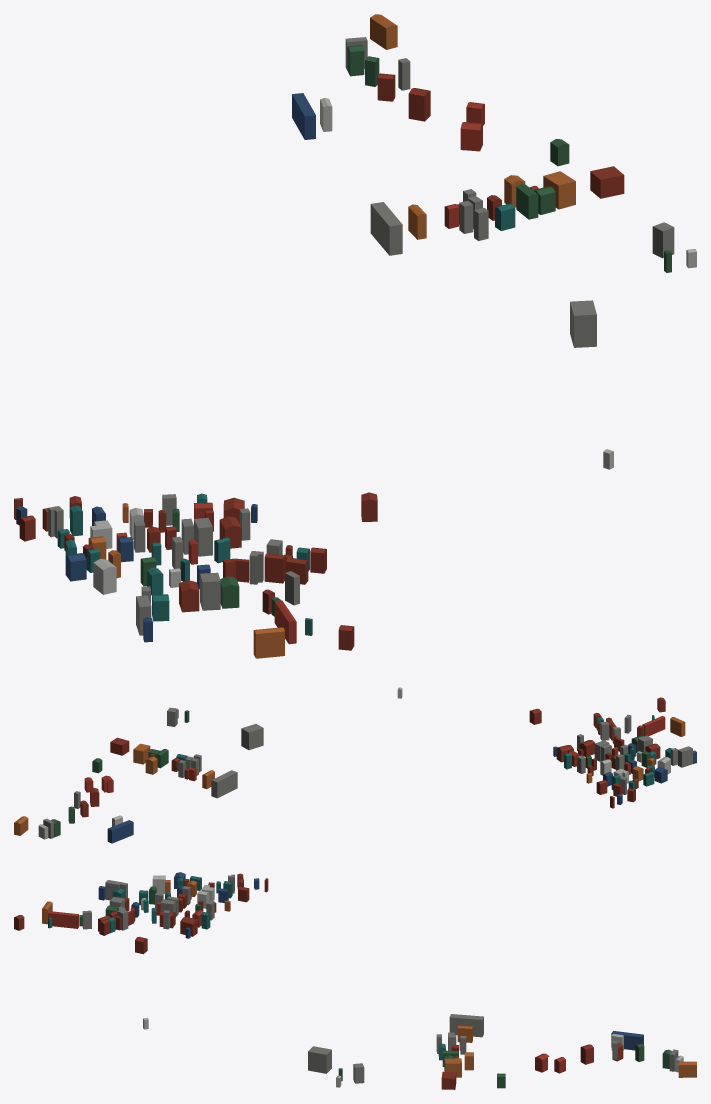
Rendered from near-15-27349-14877.6f252233.glb.
The picture shows the model from 3 angles, top to bottom: view 1: azimuth 30°, elevation 25°; view 2: azimuth 150°, elevation 25°; view 3: azimuth 270°, elevation 25°; orthographic projection. The views are drawn at different scales.
Size of the model in its own units: 667 by 77.59 by 855.
